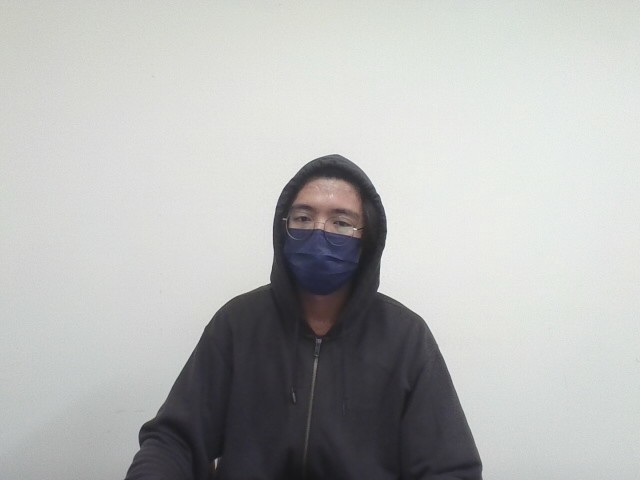No_Helmet: (267, 150, 389, 299)
person: (90, 134, 515, 480)
